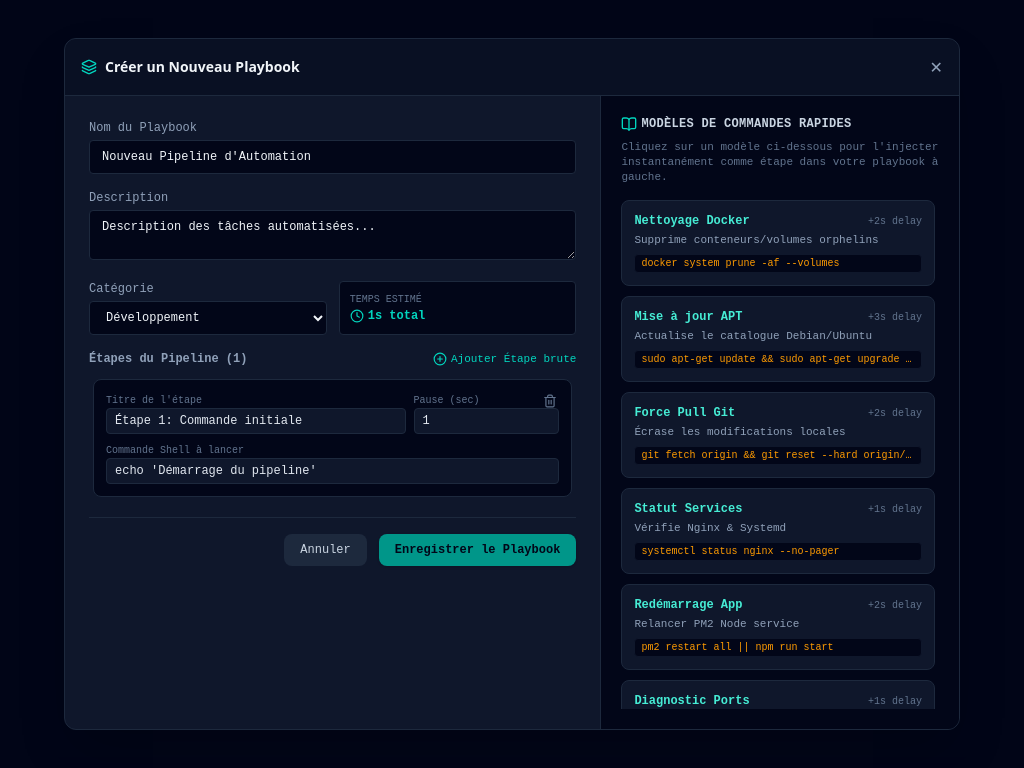
PlaybookFormModal › ajoute une étape depuis le catalogue de snippets
// Le catalogue affiche les titres de snippets (div cliquable, ex: Nettoyage Docker)
Click the text "Nettoyage Docker": point(692, 221) [634,213,750,229]
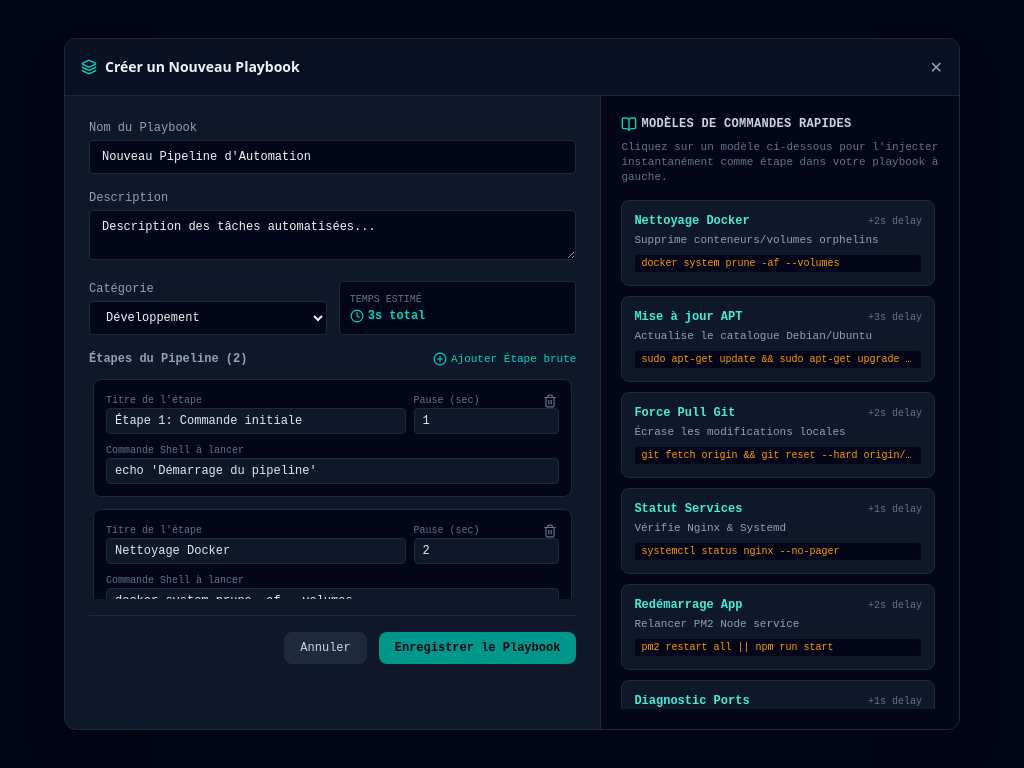
Expected: the text "Étapes du Pipeline (2)" is shown, [89,351,247,367]
